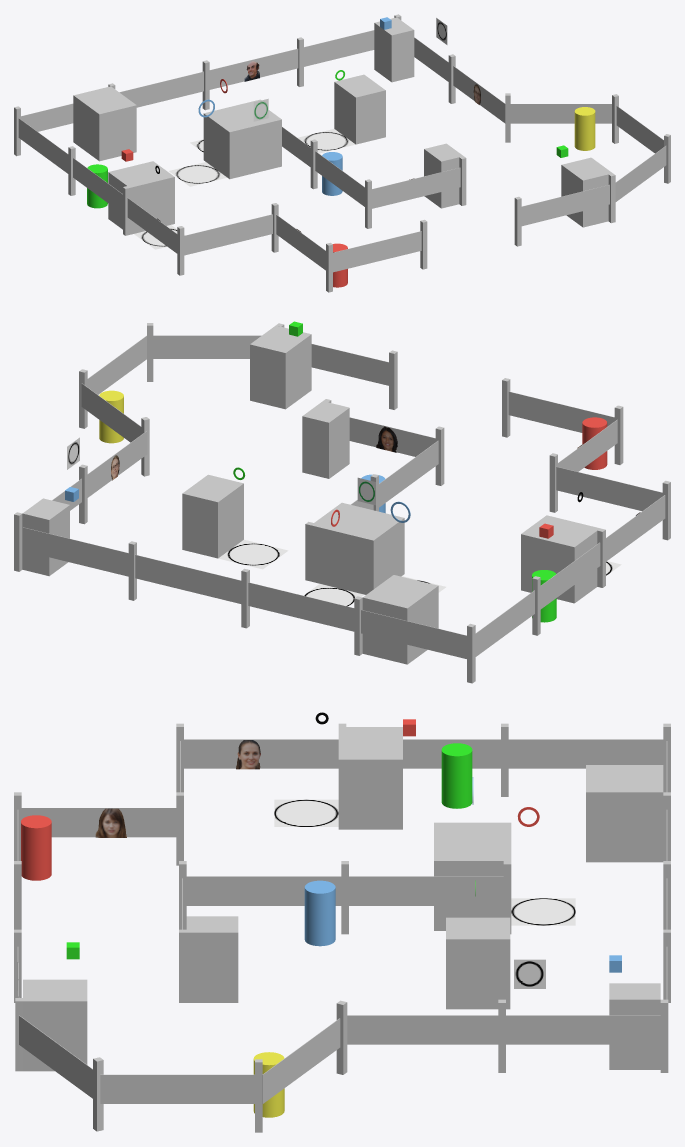
Rendered from rins_2022_task2_p3.dae.
3 renders of one model, top to bottom at view 1: azimuth 30°, elevation 25°; view 2: azimuth 150°, elevation 25°; view 3: azimuth 270°, elevation 25°, orthographic. The views are drawn at different scales.
Visible parts, largest first — view 1: rins_2022_task2_p3; view 2: rins_2022_task2_p3; view 3: rins_2022_task2_p3.
Part boxes in pixels (<box>): rins_2022_task2_p3: <box>14,14,670,292</box>; rins_2022_task2_p3: <box>14,321,670,683</box>; rins_2022_task2_p3: <box>14,712,670,1132</box>.
Size of the model in its own units: 6.22 by 5.1 by 0.95.
14 materials, 8 textured.
